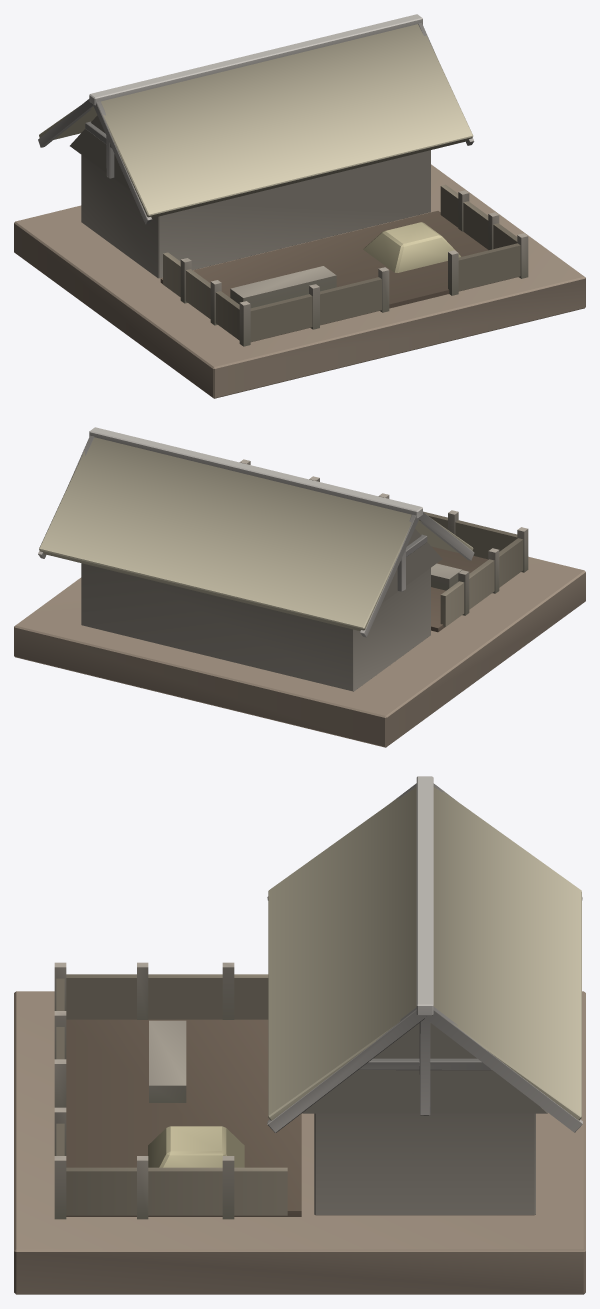
File: pig_farm_l1_lod1.glb
3 views of the same model, one above another, from view 1: azimuth 30°, elevation 25°; view 2: azimuth 150°, elevation 25°; view 3: azimuth 270°, elevation 25° (orthographic). The views are drawn at different scales.
Parts seen in each view (by area): view 1: pig_farm_l1_lod1; view 2: pig_farm_l1_lod1; view 3: pig_farm_l1_lod1.
Boxes of the visible parts, left/top/right/bottom form: pig_farm_l1_lod1: left=14, top=14, right=585, bottom=398; pig_farm_l1_lod1: left=14, top=427, right=585, bottom=747; pig_farm_l1_lod1: left=14, top=776, right=585, bottom=1294.
Size of the model in its own units: 8.6 by 4.25 by 8.
